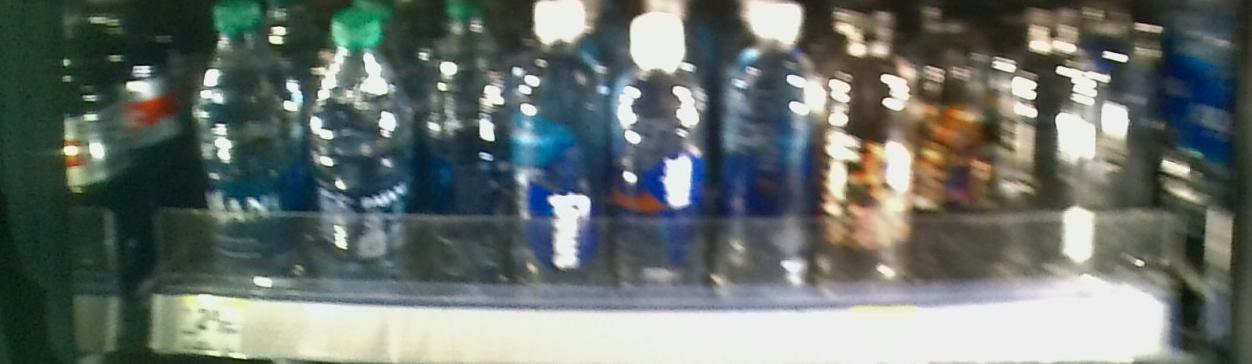bottle: (189, 2, 301, 295), (307, 10, 412, 300), (611, 11, 710, 304), (720, 11, 822, 283), (508, 5, 596, 290), (830, 21, 916, 290), (426, 5, 497, 298)
